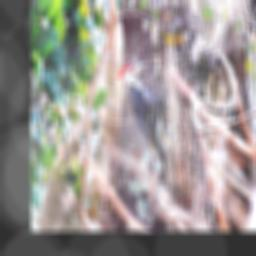Woodpecker: (112, 61, 166, 172)
